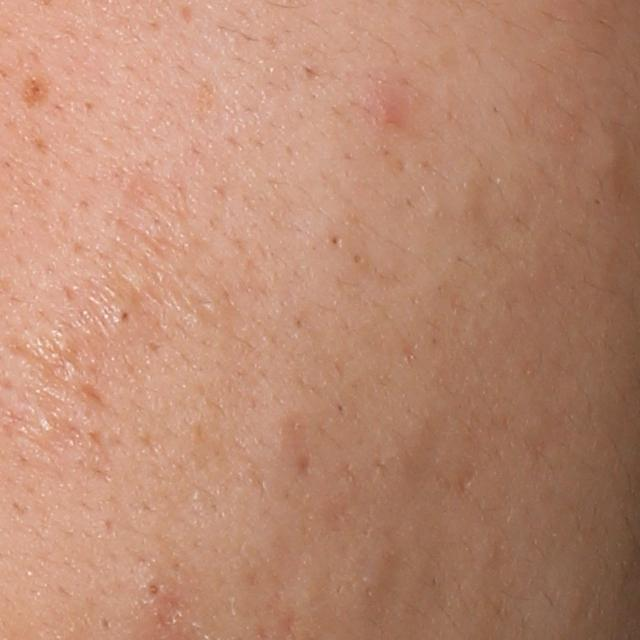atrophic_scar: (180, 3, 194, 26)
comedo: (591, 134, 628, 176), (106, 302, 142, 336), (319, 227, 347, 250)
papule: (358, 77, 403, 129)
